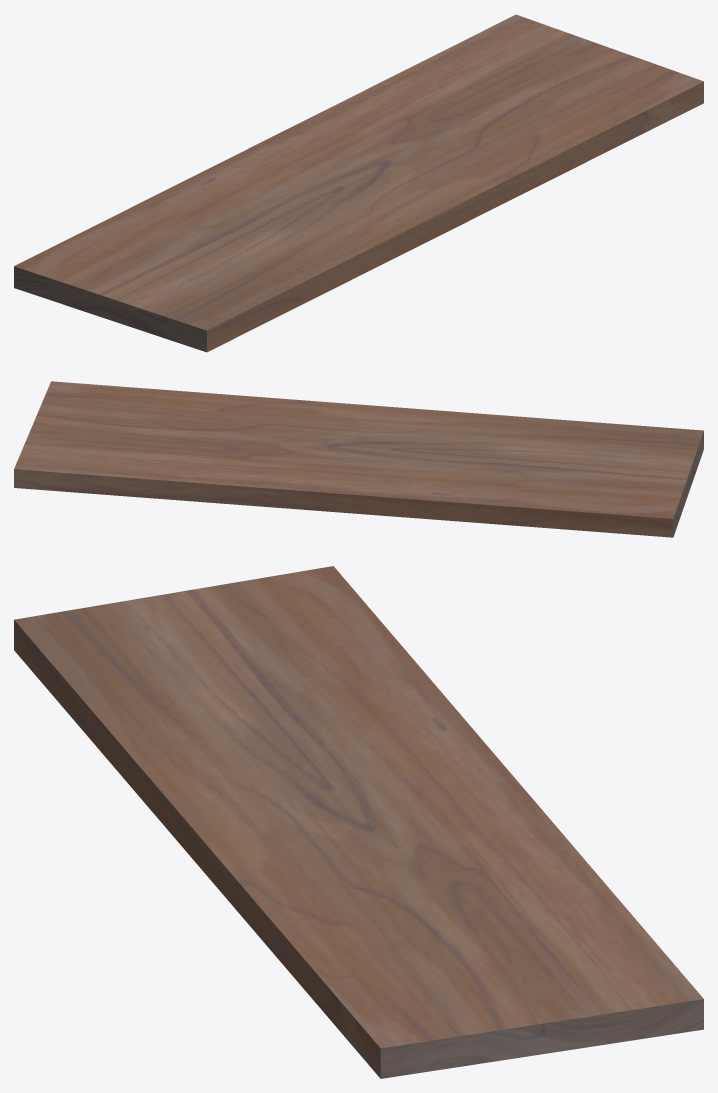
The model's file is plank_023.fbx.
The picture shows the model from 3 angles, top to bottom: view 1: azimuth 30°, elevation 25°; view 2: azimuth 150°, elevation 25°; view 3: azimuth 270°, elevation 25°; orthographic projection. The views are drawn at different scales.
Visible parts, largest first — view 1: plank.023; view 2: plank.023; view 3: plank.023.
Part boxes in pixels (box(x1,y1,x2,y2)): plank.023: box(14, 14, 703, 352); plank.023: box(14, 381, 703, 537); plank.023: box(14, 566, 703, 1078).
Size of the model in its own units: 33.75 by 0.9957 by 20.4.
